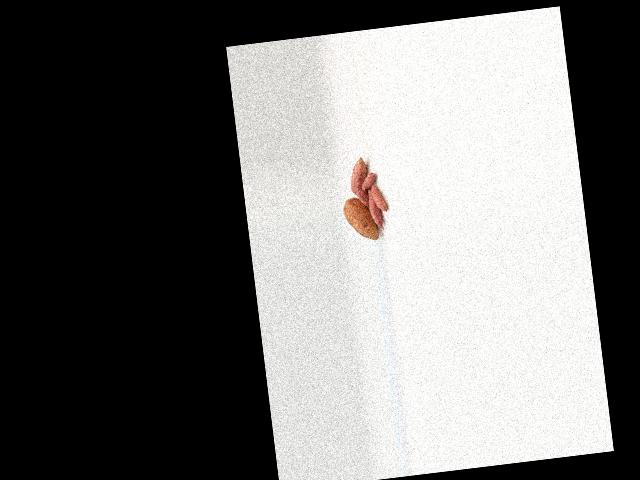sweet_potato: (347, 155, 369, 194)
